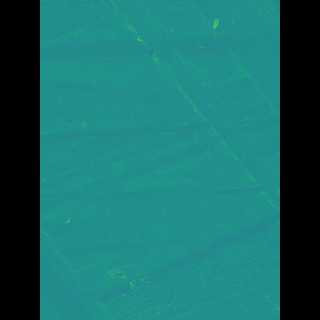Loch: (108, 0, 249, 244), (69, 225, 123, 319)
